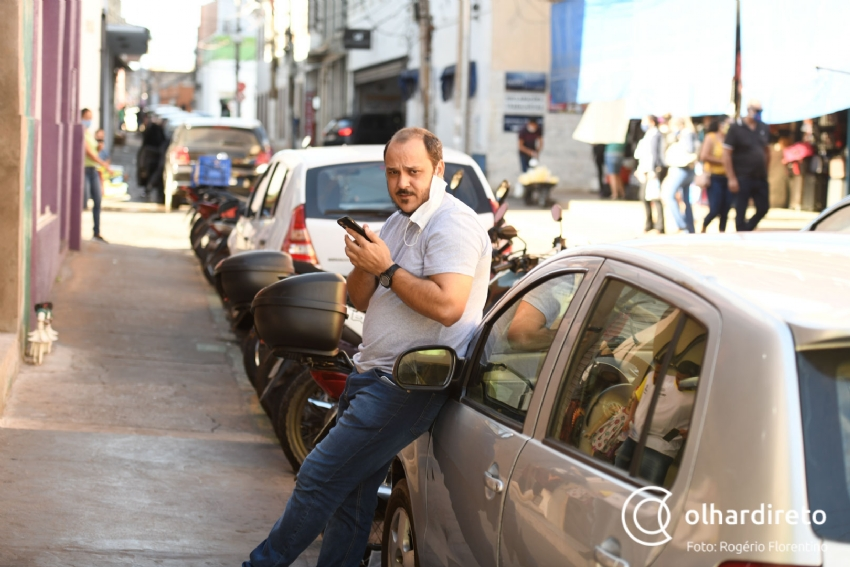mask_weared_incorrect: (384, 153, 445, 219)
